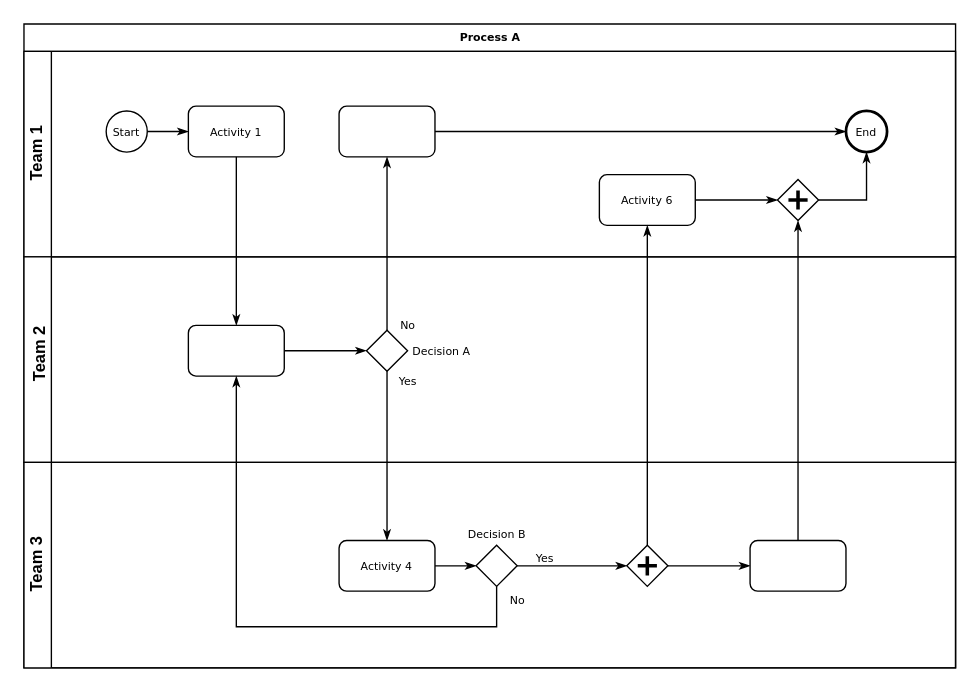
The diagram is 980 pixels wide and 692 high, and some of its shapes have lost their labels. Each missing label, with the centre of its shape:
Activity 2: point 235,350
Activity 3: point 386,131
Activity 7: point 797,565
Merge: point 797,199
Split: point 646,565
